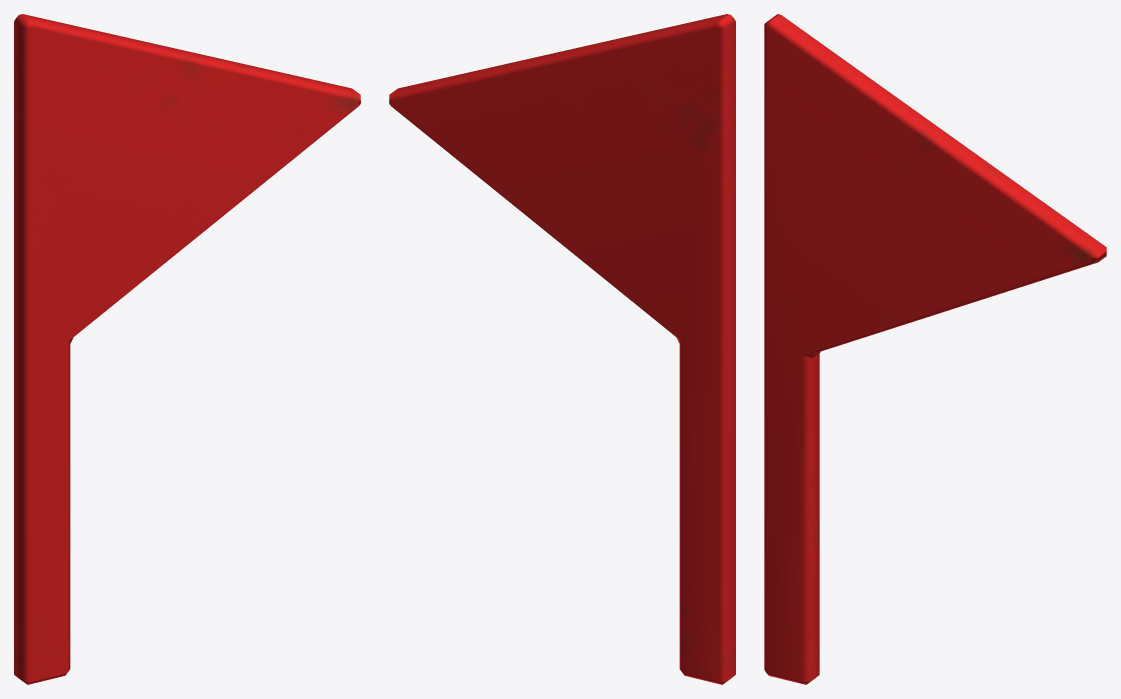
File: 05_FlagRed.glb
3 renders of one model, left to right at view 1: azimuth 30°, elevation 25°; view 2: azimuth 150°, elevation 25°; view 3: azimuth 330°, elevation 25°, orthographic.
Parts seen in each view (by area): view 1: FlagRed; view 2: FlagRed; view 3: FlagRed.
Part boxes in pixels (left/top/right/bottom): FlagRed: left=14, top=14, right=360, bottom=684; FlagRed: left=389, top=14, right=735, bottom=684; FlagRed: left=764, top=14, right=1106, bottom=684.
Bounding box in the file's own units: 0.1366 × 0.2561 × 0.01.
Materials: 1 (1 with a texture image).
